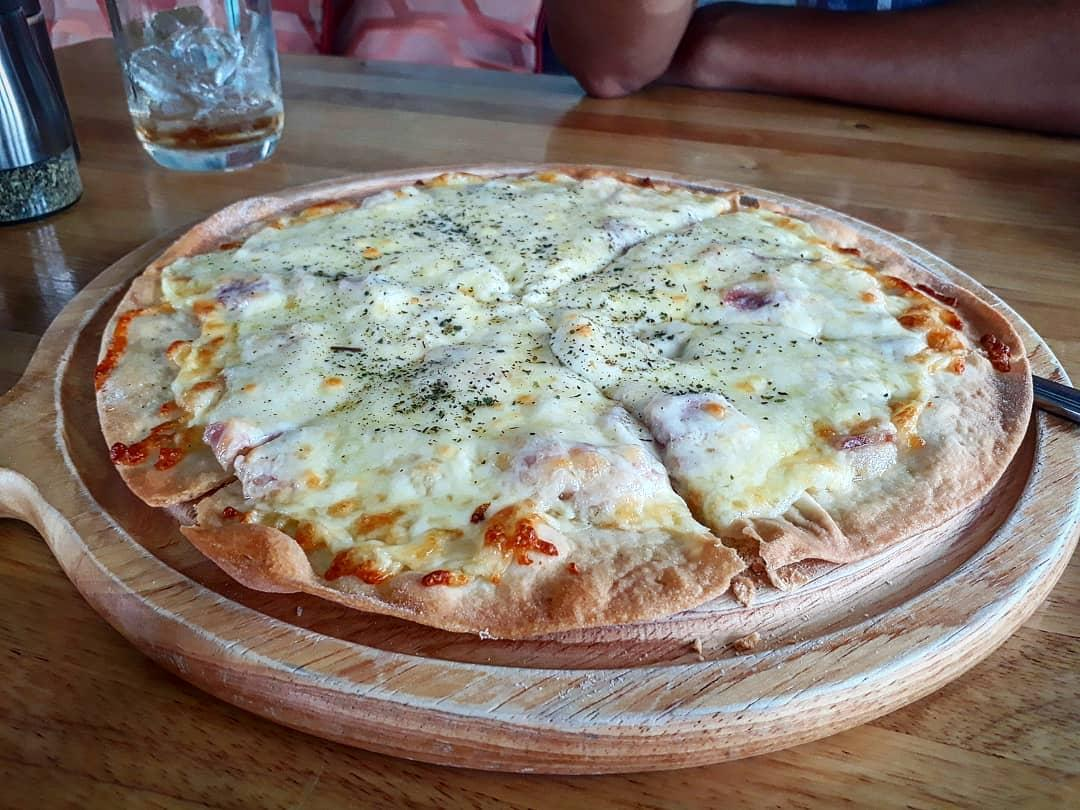Cheese: (304, 210, 729, 514), (734, 248, 878, 455), (178, 242, 291, 450), (355, 514, 551, 561), (421, 185, 652, 208)
Pizza: (82, 159, 1040, 644)
